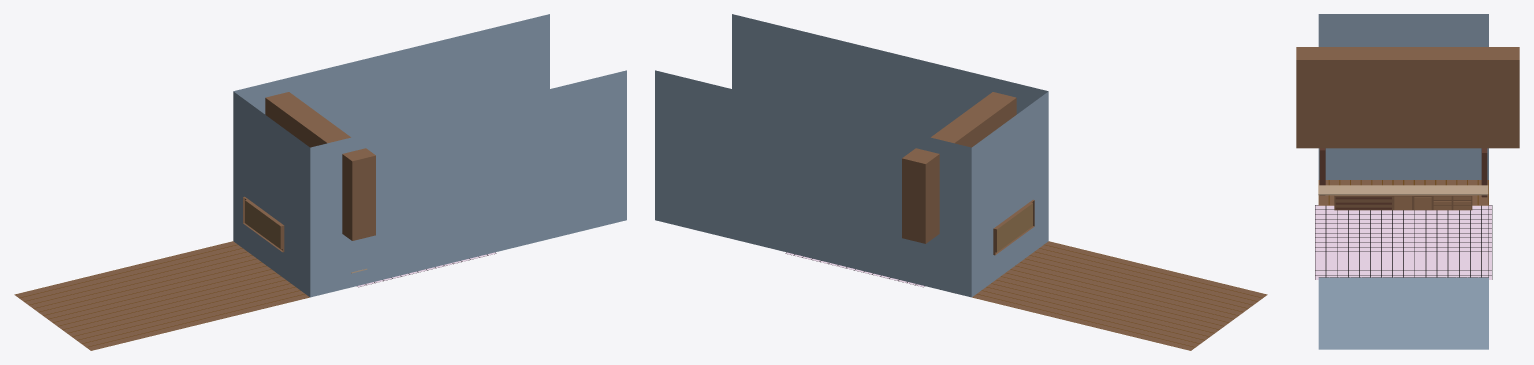
The model's file is _lvl_ (1).fbx.
3 renders of one model, left to right at view 1: azimuth 30°, elevation 25°; view 2: azimuth 150°, elevation 25°; view 3: azimuth 270°, elevation 25°, orthographic. The views are drawn at different scales.
Parts seen in each view (by area): view 1: boundary, Cube.002, wall_picture; view 2: boundary, Cube.002, wall_picture; view 3: boundary, Cube.002, floor, ComputerShelf.001, Stoleshnitza.001, Plane.003, door.
Part boxes in pixels (x1,y1,x2,y2): boundary: (14, 14, 626, 350); Cube.002: (265, 92, 375, 240); wall_picture: (243, 196, 284, 252); boundary: (655, 14, 1267, 350); Cube.002: (902, 92, 1016, 243); wall_picture: (993, 199, 1034, 255); boundary: (1318, 14, 1488, 349); Cube.002: (1296, 47, 1519, 148); floor: (1315, 205, 1492, 279); ComputerShelf.001: (1334, 195, 1472, 210); Stoleshnitza.001: (1318, 185, 1488, 195); Plane.003: (1481, 148, 1487, 197); door: (1319, 148, 1325, 195).
Size of the model in its own units: 2315 by 621 by 756.
